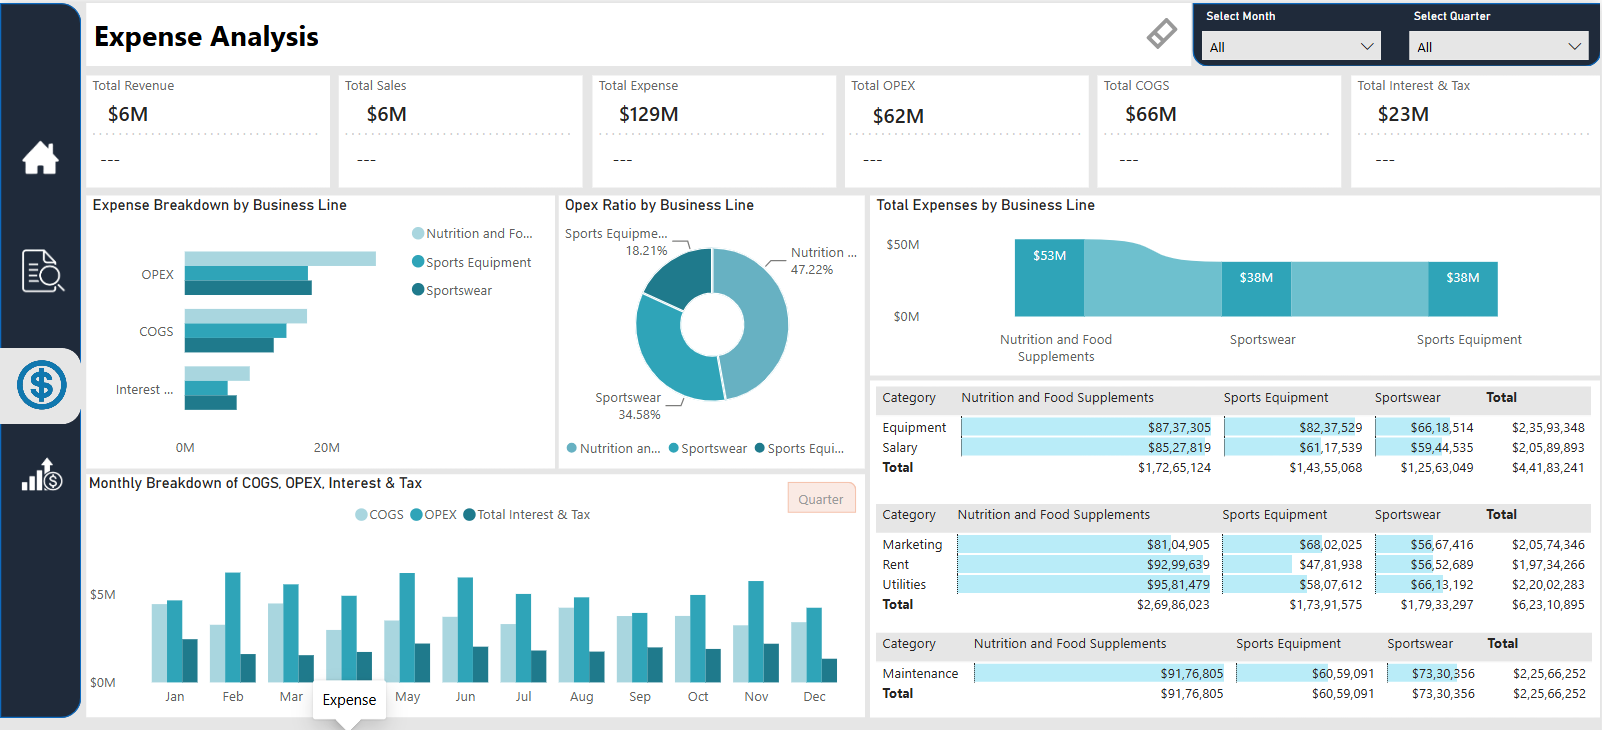

The page's visual inventory and layout, read from the dashboard file:
{"tool":"powerbi","page":{"name":"Expense","canvas":[1280,720],"ordinal":2},"visuals":[{"type":"group","id":"g1","title":"Home Tab","box":[0,0,66,572],"z":0},{"type":"shape","box":[0,0,65,572],"z":0,"group":"g1"},{"type":"shape","box":[69,0,884,51],"z":0,"group":"g3"},{"type":"shape","box":[953.5,0,327,51],"z":0,"group":"g6"},{"type":"shape","title":"Revenue","box":[69,58,195,90],"z":0,"group":"g12"},{"type":"shape","title":"Sales","box":[271,58,195,90],"z":0,"group":"g7"},{"type":"shape","title":"Expense","box":[474,58,195,90],"z":0,"group":"g10"},{"type":"shape","title":"Gross Profit","box":[676,58,195,90],"z":0,"group":"g4"},{"type":"shape","title":"COGS","box":[878,58,195,90],"z":0,"group":"g9"},{"type":"group","id":"g2","title":"Total Interest & Tax","box":[1073,58,207,90],"z":0,"group":"g8"},{"type":"shape","title":"Net Profit","box":[1081,58,199,90],"z":0,"group":"g2"},{"type":"shape","box":[69,154,375,219],"z":0,"group":"g15"},{"type":"shape","box":[447,154,245,219],"z":0,"group":"g11"},{"type":"shape","box":[696,154,584,144],"z":0,"group":"g14"},{"type":"shape","box":[0,276,65,61],"z":0,"group":"g5"},{"type":"shape","box":[696,302,584,270],"z":0,"group":"g16"},{"type":"shape","box":[69,377,623,195],"z":0,"group":"g13"},{"type":"group","id":"g3","title":"Finance Overview","box":[69,0,884,51],"z":1000},{"type":"actionButton","box":[906,0,47,50],"z":1000,"group":"g3"},{"type":"slicer","title":"Month","fields":{"Values":["Date Table.Month"]},"box":[951.7,0.5,162.9,50.7],"z":1000,"group":"g6"},{"type":"cardVisual","title":"Revenue Card","fields":{"Data":["Membership_Payments.Total Revenue"]},"box":[57,58,98,57],"z":1000,"group":"g12"},{"type":"cardVisual","title":"Sales Card","fields":{"Data":["Membership_Payments.Total Revenue"]},"box":[264,58,105,57],"z":1000,"group":"g7"},{"type":"cardVisual","title":"Expenses Card","fields":{"Data":["Expenses.Total Expenses"]},"box":[466,58,110,57],"z":1000,"group":"g10"},{"type":"group","id":"g4","title":"Total OPEX","box":[669,58,202,90],"z":1000,"group":"g8"},{"type":"cardVisual","title":"COGS Card","fields":{"Data":["Trainer_Operations.Direct Costs"]},"box":[871,58,105,57],"z":1000,"group":"g9"},{"type":"cardVisual","title":"Net Profit Card","fields":{"Data":["Expenses.Total Interest & Tax"]},"box":[1073,58,160,57],"z":1000,"group":"g2"},{"type":"cardVisual","title":"Gross Profit Card","fields":{"Data":["Expenses.OPEX"]},"box":[669,61.6,106.2,53.1],"z":1000,"group":"g4"},{"type":"clusteredBarChart","title":"Expense Breakdown by Business Line","fields":{"Category":["Expenses.Expense Type"],"Y":["Sum(Expenses.Amount)"],"Series":["Branch_Performance.Business Line"]},"box":[69,154,375,219],"z":1000,"group":"g15"},{"type":"donutChart","fields":{"Y":["Membership_Payments.Opex Ratio"],"Category":["Membership_Payments.Business Line"]},"box":[447,154,246,220],"z":1000,"group":"g11"},{"type":"ribbonChart","fields":{"Y":["Expenses.Total Expenses"],"Category":["Branch_Performance.Business Line"]},"box":[696,154,584,144],"z":1000,"group":"g14"},{"type":"group","id":"g5","title":"Dollar","box":[0,276,66,61],"z":1000,"group":"g1"},{"type":"image","title":"Dollar Icon","box":[1,276,65,61],"z":1000,"group":"g5"},{"type":"pivotTable","fields":{"Rows":["Expenses.Category"],"Columns":["Branch_Performance.Business Line"],"Values":["Expenses.COGS"]},"box":[696,302,584,94],"z":1000,"group":"g16"},{"type":"clusteredColumnChart","title":"Monthly Breakdown of COGS, OPEX, Interest & Tax","fields":{"Category":["Expenses.Month"],"Y":["Expenses.COGS","Expenses.OPEX","Expenses.Total Interest & Tax"]},"box":[66,377,628,195],"z":1000,"group":"g13"},{"type":"shape","title":"Quarter","box":[630,383,55,25],"z":1500,"group":"g13"},{"type":"group","id":"g6","title":"Slicers","box":[951.7,0,328.3,51.5],"z":2000},{"type":"slicer","title":"Quarter","fields":{"Values":["Date Table.Quarter"]},"box":[1118.2,0.5,162.9,50.7],"z":2000,"group":"g6"},{"type":"group","id":"g7","title":"Total Sales","box":[264,58,202,90],"z":2000,"group":"g8"},{"type":"image","title":"Home icon","box":[0,102,65,47],"z":2000,"group":"g1"},{"type":"textbox","title":"Revenue box 2","box":[75,110,31,29],"z":2000,"group":"g12"},{"type":"textbox","title":"Sales box 2","box":[280,110,31,29],"z":2000,"group":"g7"},{"type":"textbox","title":"Expense box 2","box":[485,110,31,29],"z":2000,"group":"g10"},{"type":"textbox","title":"Gross Profit box 2","box":[685,110,31,29],"z":2000,"group":"g4"},{"type":"textbox","title":"COGS box 2","box":[890,110,31,29],"z":2000,"group":"g9"},{"type":"textbox","title":"Net profit box 2","box":[1095,110,31,29],"z":2000,"group":"g2"},{"type":"pivotTable","fields":{"Rows":["Expenses.Category"],"Columns":["Branch_Performance.Business Line"],"Values":["Expenses.OPEX"]},"box":[696,396,584,103],"z":2000,"group":"g16"},{"type":"group","id":"g8","title":"KPI Cards","box":[57,58,1223,90],"z":3000},{"type":"group","id":"g9","title":"Total COGS","box":[871,58,202,90],"z":3000,"group":"g8"},{"type":"textbox","title":"Revenue box 1","box":[69,85.6,195,35],"z":3000,"group":"g12"},{"type":"textbox","title":"Sales box 1","box":[271,85.6,195,35],"z":3000,"group":"g7"},{"type":"textbox","title":"Expense box 1","box":[474,85.6,195,35],"z":3000,"group":"g10"},{"type":"textbox","title":"Gross Profit box 1","box":[674,85.6,197,35],"z":3000,"group":"g4"},{"type":"textbox","title":"COGS box 1","box":[878,85.6,195,35],"z":3000,"group":"g9"},{"type":"textbox","title":"Net Profit box 1","box":[1081,85.6,199,35],"z":3000,"group":"g2"},{"type":"image","title":"Search Icon","box":[0,191,65,47],"z":3000,"group":"g1"},{"type":"pivotTable","fields":{"Rows":["Expenses.Category"],"Columns":["Branch_Performance.Business Line"],"Values":["Expenses.Total Interest & Tax"]},"box":[696,499,584,73],"z":3000,"group":"g16"},{"type":"group","id":"g10","title":"Total Expense","box":[466,58,203,90],"z":4000,"group":"g8"},{"type":"group","id":"g11","title":"OPEX Ratio Pie chart","box":[447,154,246,220],"z":4000},{"type":"image","title":"Dollar Growth icon","box":[0,355,65,47],"z":4000,"group":"g1"},{"type":"group","id":"g12","title":"Total Revenue","box":[57,58,207,90],"z":5000,"group":"g8"},{"type":"group","id":"g13","title":"COGS,OPEX,Income column chart","box":[66,377,628,195],"z":5000},{"type":"group","id":"g14","title":"Total Expenses By Line","box":[696,154,584,144],"z":6000},{"type":"group","id":"g15","title":"Expense Breakdown chart","box":[69,154,375,219],"z":7000},{"type":"group","id":"g16","title":"Table 1","box":[696,302,584,270],"z":8000}]}

Visuals, with their boxes on the page's 1280x720 design canvas (x1, y1, x2, y2). These are canvas units, not pixel positions in the 1602x730 screenshot, which may show the page scaled, cropped or inside an application window:
"Home Tab" group: 0,0,66,572
shape: 0,0,65,572
shape: 69,0,953,51
shape: 954,0,1280,51
"Revenue" shape: 69,58,264,148
"Sales" shape: 271,58,466,148
"Expense" shape: 474,58,669,148
"Gross Profit" shape: 676,58,871,148
"COGS" shape: 878,58,1073,148
"Total Interest & Tax" group: 1073,58,1280,148
"Net Profit" shape: 1081,58,1280,148
shape: 69,154,444,373
shape: 447,154,692,373
shape: 696,154,1280,298
shape: 0,276,65,337
shape: 696,302,1280,572
shape: 69,377,692,572
"Finance Overview" group: 69,0,953,51
actionButton: 906,0,953,50
"Month" slicer: 952,0,1115,51
"Revenue Card" cardVisual: 57,58,155,115
"Sales Card" cardVisual: 264,58,369,115
"Expenses Card" cardVisual: 466,58,576,115
"Total OPEX" group: 669,58,871,148
"COGS Card" cardVisual: 871,58,976,115
"Net Profit Card" cardVisual: 1073,58,1233,115
"Gross Profit Card" cardVisual: 669,62,775,115
"Expense Breakdown by Business Line" clusteredBarChart: 69,154,444,373
donutChart - Membership_Payments.Opex Ratio x Membership_Payments.Business Line: 447,154,693,374
ribbonChart - Expenses.Total Expenses x Branch_Performance.Business Line: 696,154,1280,298
"Dollar" group: 0,276,66,337
"Dollar Icon" image: 1,276,66,337
pivotTable - Expenses.Category x Branch_Performance.Business Line: 696,302,1280,396
"Monthly Breakdown of COGS, OPEX, Interest & Tax" clusteredColumnChart: 66,377,694,572
"Quarter" shape: 630,383,685,408
"Slicers" group: 952,0,1280,52
"Quarter" slicer: 1118,0,1281,51
"Total Sales" group: 264,58,466,148
"Home icon" image: 0,102,65,149
"Revenue box 2" textbox: 75,110,106,139
"Sales box 2" textbox: 280,110,311,139
"Expense box 2" textbox: 485,110,516,139
"Gross Profit box 2" textbox: 685,110,716,139
"COGS box 2" textbox: 890,110,921,139
"Net profit box 2" textbox: 1095,110,1126,139
pivotTable - Expenses.Category x Branch_Performance.Business Line: 696,396,1280,499
"KPI Cards" group: 57,58,1280,148
"Total COGS" group: 871,58,1073,148
"Revenue box 1" textbox: 69,86,264,121
"Sales box 1" textbox: 271,86,466,121
"Expense box 1" textbox: 474,86,669,121
"Gross Profit box 1" textbox: 674,86,871,121
"COGS box 1" textbox: 878,86,1073,121
"Net Profit box 1" textbox: 1081,86,1280,121
"Search Icon" image: 0,191,65,238
pivotTable - Expenses.Category x Branch_Performance.Business Line: 696,499,1280,572
"Total Expense" group: 466,58,669,148
"OPEX Ratio Pie chart" group: 447,154,693,374
"Dollar Growth icon" image: 0,355,65,402
"Total Revenue" group: 57,58,264,148
"COGS,OPEX,Income column chart" group: 66,377,694,572
"Total Expenses By Line" group: 696,154,1280,298
"Expense Breakdown chart" group: 69,154,444,373
"Table 1" group: 696,302,1280,572
